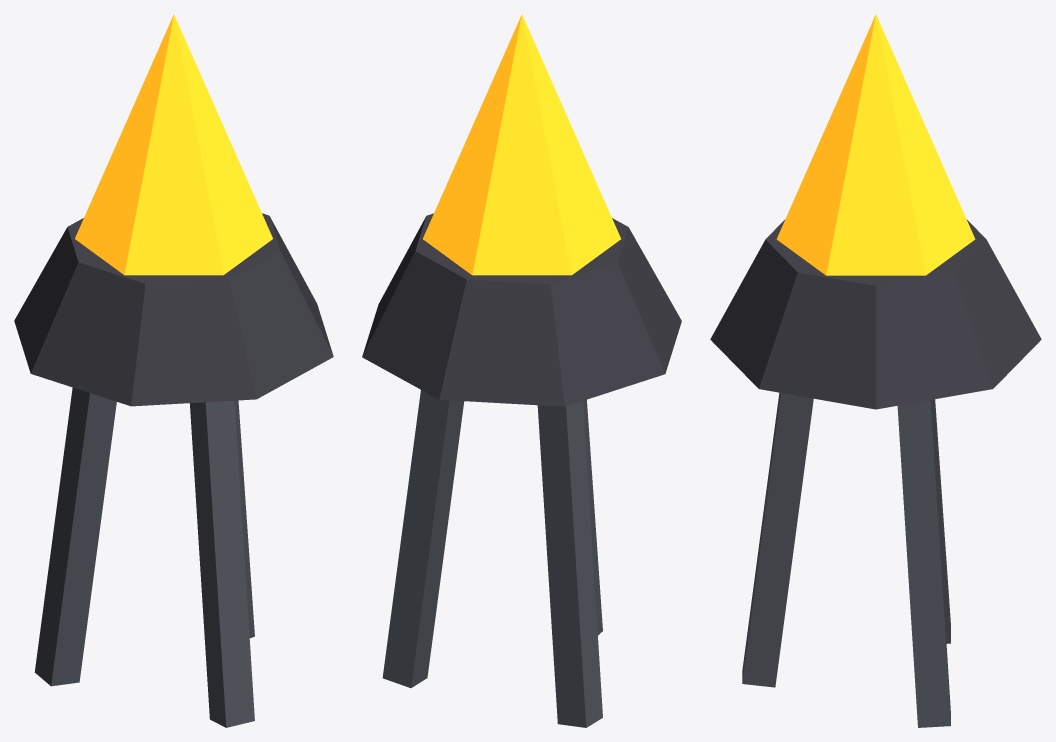
The model's file is brazier.glb.
3 renders of one model, left to right at view 1: azimuth 30°, elevation 25°; view 2: azimuth 150°, elevation 25°; view 3: azimuth 270°, elevation 25°, orthographic.
Visible parts, largest first — view 1: bowl, flame, leg2, leg1, leg0; view 2: bowl, flame, leg1, leg0, leg2; view 3: bowl, flame, leg0, leg2, leg1.
Boxes of the visible parts, left/top/right/bottom form: bowl: left=14, top=213, right=333, bottom=406; flame: left=75, top=14, right=272, bottom=275; leg2: left=190, top=400, right=254, bottom=727; leg1: left=34, top=387, right=116, bottom=686; leg0: left=234, top=400, right=254, bottom=638; bowl: left=362, top=213, right=681, bottom=406; flame: left=423, top=14, right=620, bottom=275; leg1: left=537, top=401, right=602, bottom=727; leg0: left=382, top=390, right=464, bottom=687; leg2: left=583, top=399, right=602, bottom=635; bowl: left=710, top=220, right=1041, bottom=409; flame: left=776, top=14, right=975, bottom=275; leg0: left=897, top=400, right=950, bottom=727; leg2: left=742, top=392, right=813, bottom=687; leg1: left=931, top=399, right=950, bottom=643.
Size of the model in its own units: 0.6 by 1.33 by 0.6.
